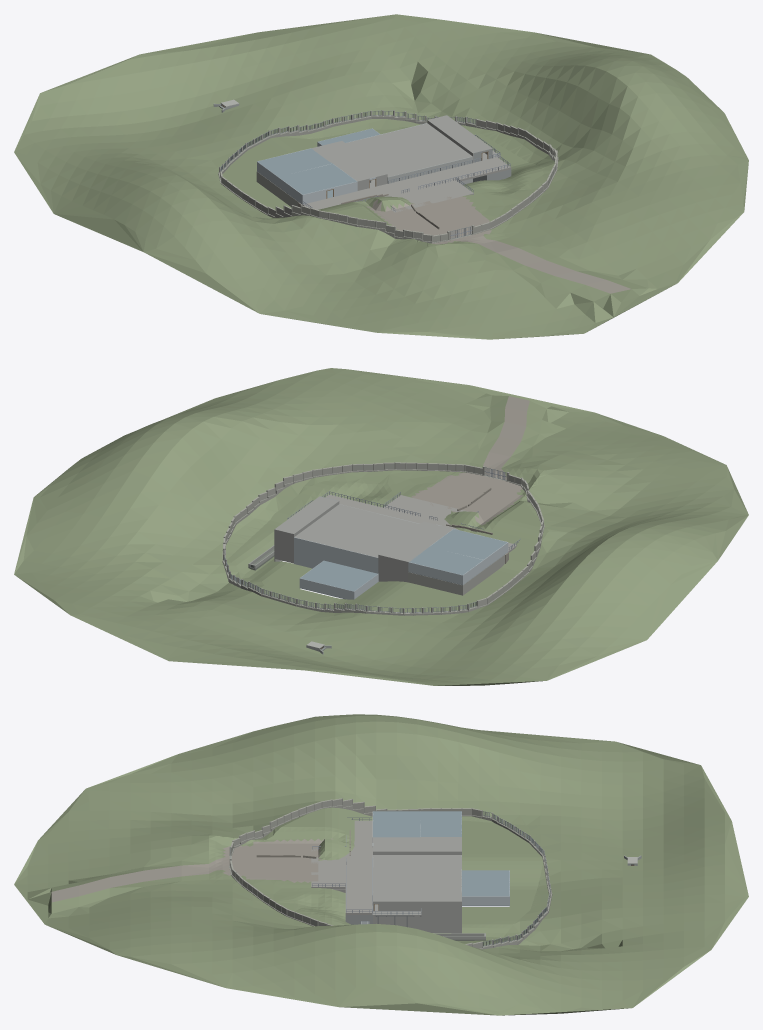
The model's file is dam-with-reservoir.glb.
3 views of the same model, one above another, from view 1: azimuth 30°, elevation 25°; view 2: azimuth 150°, elevation 25°; view 3: azimuth 270°, elevation 25° (orthographic). The views are drawn at different scales.
Parts seen in each view (by area): view 1: Blackwater joined valley terrain, Blackwater saved ground with road surface, WLD-09 turbine enclosed roof region0, WLD-09 complete structural crest deck region0, WLD-09 west hall enclosed roof region0, Ceiling cap control, Ceiling cap office, Blackwater tied boundary piers, WLD-09 complete bridge arrival forecourt region0, WLD-09 east hall enclosed roof region0; view 2: Blackwater joined valley terrain, Blackwater saved ground with road surface, WLD-09 turbine enclosed roof region0, WLD-09 west hall enclosed roof region0, Ceiling cap plant, Ceiling cap control, Blackwater tied boundary piers, Flat route shell Wall turbine N.001, Ceiling cap office, WLD-09 complete bridge arrival forecourt region0, WLD-09 east hall enclosed roof region0, WLD-09 complete structural crest deck region0 (+4 smaller); view 3: Blackwater joined valley terrain, Blackwater saved ground with road surface, WLD-09 turbine enclosed roof region0, WLD-09 complete structural crest deck region0, WLD-09 hall E pier0 region0, WLD-09 west hall enclosed roof region0, Ceiling cap control, Ceiling cap plant, Ceiling cap office, WLD-09 east hall enclosed roof region0, WLD-09 complete bridge arrival forecourt region0, Blackwater tied boundary piers.
Boxes of the visible parts, x1,y1,x2,y2 form: Blackwater joined valley terrain: (14,14,748,339); Blackwater saved ground with road surface: (212,127,543,245); WLD-09 turbine enclosed roof region0: (345,123,472,176); WLD-09 complete structural crest deck region0: (302,157,511,209); WLD-09 west hall enclosed roof region0: (312,141,387,182); Ceiling cap control: (278,163,356,194); Ceiling cap office: (257,148,332,176); Blackwater tied boundary piers: (219,110,557,243); WLD-09 complete bridge arrival forecourt region0: (392,180,473,212); WLD-09 east hall enclosed roof region0: (427,115,492,153); Blackwater joined valley terrain: (14,368,748,685); Blackwater saved ground with road surface: (228,462,548,622); WLD-09 turbine enclosed roof region0: (295,504,419,557); WLD-09 west hall enclosed roof region0: (379,521,452,562); Ceiling cap plant: (300,560,377,591); Ceiling cap control: (429,529,506,559); Blackwater tied boundary piers: (222,462,544,615); Flat route shell Wall turbine N.001: (294,537,348,567); Ceiling cap office: (409,547,482,575); WLD-09 complete bridge arrival forecourt region0: (384,495,468,523); WLD-09 east hall enclosed roof region0: (274,497,339,534); WLD-09 complete structural crest deck region0: (325,494,516,552); Blackwater joined valley terrain: (14,714,748,1015); Blackwater saved ground with road surface: (209,807,542,945); WLD-09 turbine enclosed roof region0: (373,855,461,892); WLD-09 complete structural crest deck region0: (345,820,372,914); WLD-09 hall E pier0 region0: (378,901,461,929); WLD-09 west hall enclosed roof region0: (373,837,461,852); Ceiling cap control: (373,811,420,837); Ceiling cap plant: (462,870,509,896); Ceiling cap office: (420,811,461,836); WLD-09 east hall enclosed roof region0: (373,892,461,902); WLD-09 complete bridge arrival forecourt region0: (311,849,345,888); Blackwater tied boundary piers: (230,798,551,947).
Bounding box in the file's own units: 200 × 25.78 × 215.
85 materials, 47 textured.
